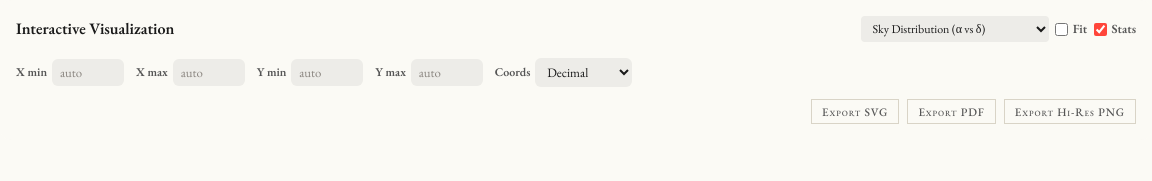
PlotBuilder › shows column selectors when scatter_custom is chosen
The width and height of the screenshot is (1152, 181).
Select "Custom Scatter" in the 1st dropdown at (954, 29), box x1=860 y1=16 x2=1048 y2=42
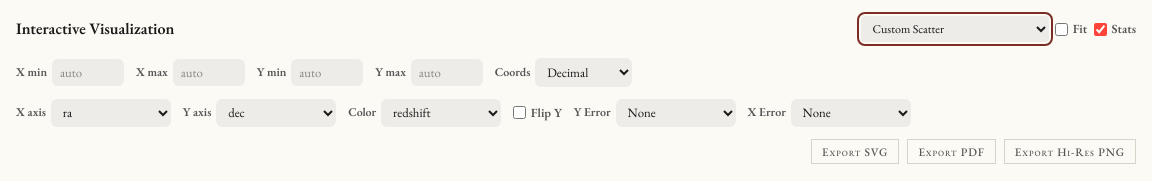
Check: the text "X axis" is shown, box x1=16 y1=99 x2=171 y2=127
Check: the text "Y axis" is shown, box x1=183 y1=99 x2=336 y2=127
Check: the text "Color" is shown, box x1=348 y1=99 x2=501 y2=127
